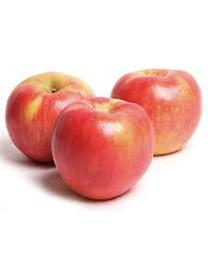apple: (50, 96, 154, 200), (4, 70, 95, 164), (110, 67, 202, 156)
